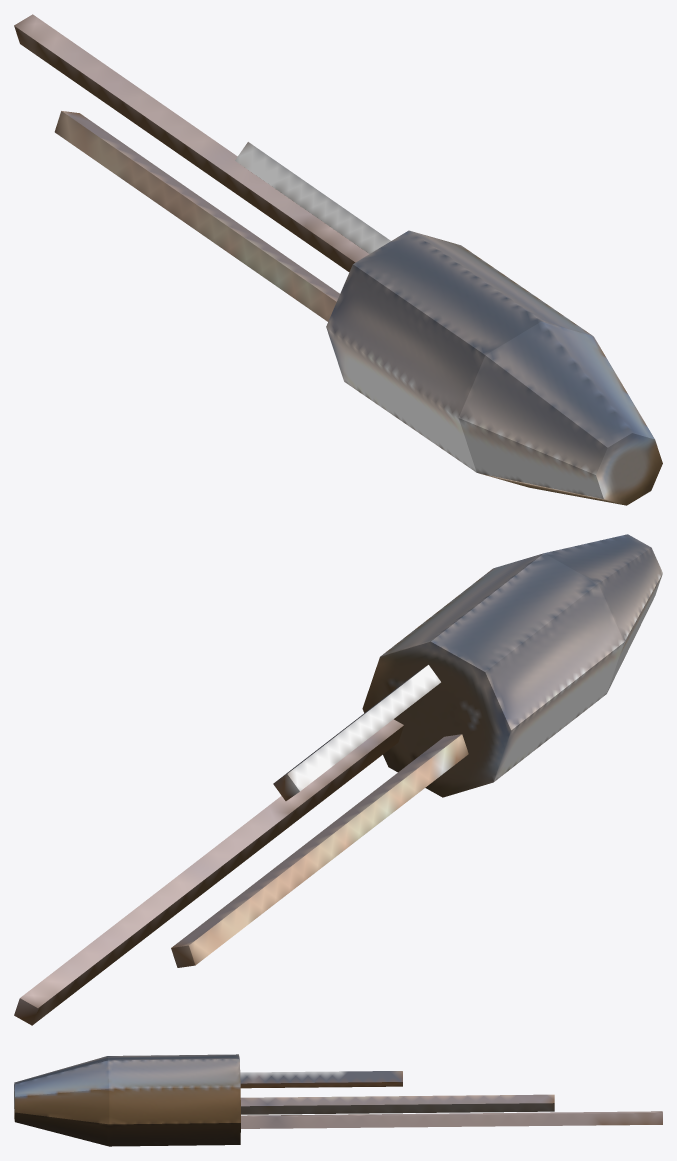
3 views of the same model, one above another, from view 1: azimuth 30°, elevation 25°; view 2: azimuth 150°, elevation 25°; view 3: azimuth 270°, elevation 25° (orthographic). The views are drawn at different scales.
Visible parts, largest first — view 1: Bala_Cylinder.003, Estela_1_Cube.006, Estela_3_Cube.008, Estela_2_Cube.007; view 2: Bala_Cylinder.003, Estela_1_Cube.006, Estela_3_Cube.008, Estela_2_Cube.007; view 3: Bala_Cylinder.003, Estela_1_Cube.006, Estela_3_Cube.008, Estela_2_Cube.007.
Boxes of the visible parts, x1,y1,x2,y2 form: Bala_Cylinder.003: [326, 230, 662, 505]; Estela_1_Cube.006: [14, 14, 369, 271]; Estela_3_Cube.008: [54, 111, 339, 321]; Estela_2_Cube.007: [235, 142, 390, 253]; Bala_Cylinder.003: [362, 534, 662, 797]; Estela_1_Cube.006: [14, 719, 403, 1025]; Estela_3_Cube.008: [171, 734, 468, 967]; Estela_2_Cube.007: [273, 665, 440, 800]; Bala_Cylinder.003: [14, 1054, 240, 1146]; Estela_1_Cube.006: [241, 1111, 662, 1128]; Estela_3_Cube.008: [240, 1094, 554, 1114]; Estela_2_Cube.007: [240, 1071, 402, 1088].
Size of what is drawn, in the model's own units: 0.2905 by 0.2796 by 1.94.
